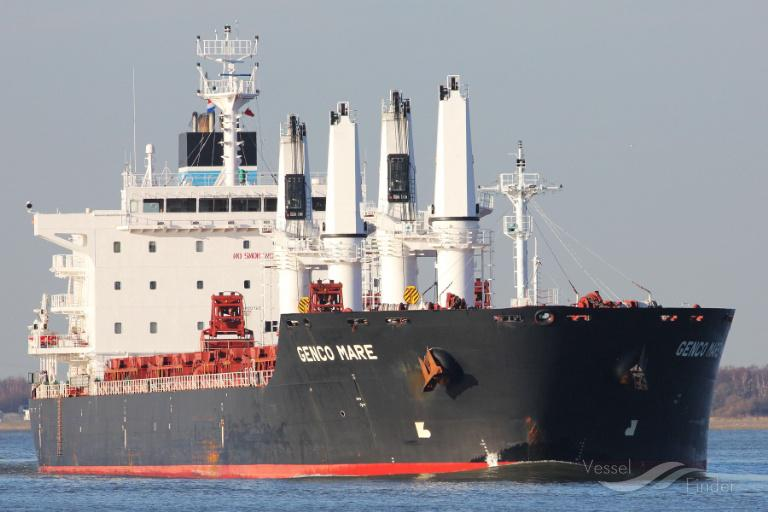OCR: (287, 334, 385, 374), (670, 336, 724, 363)
